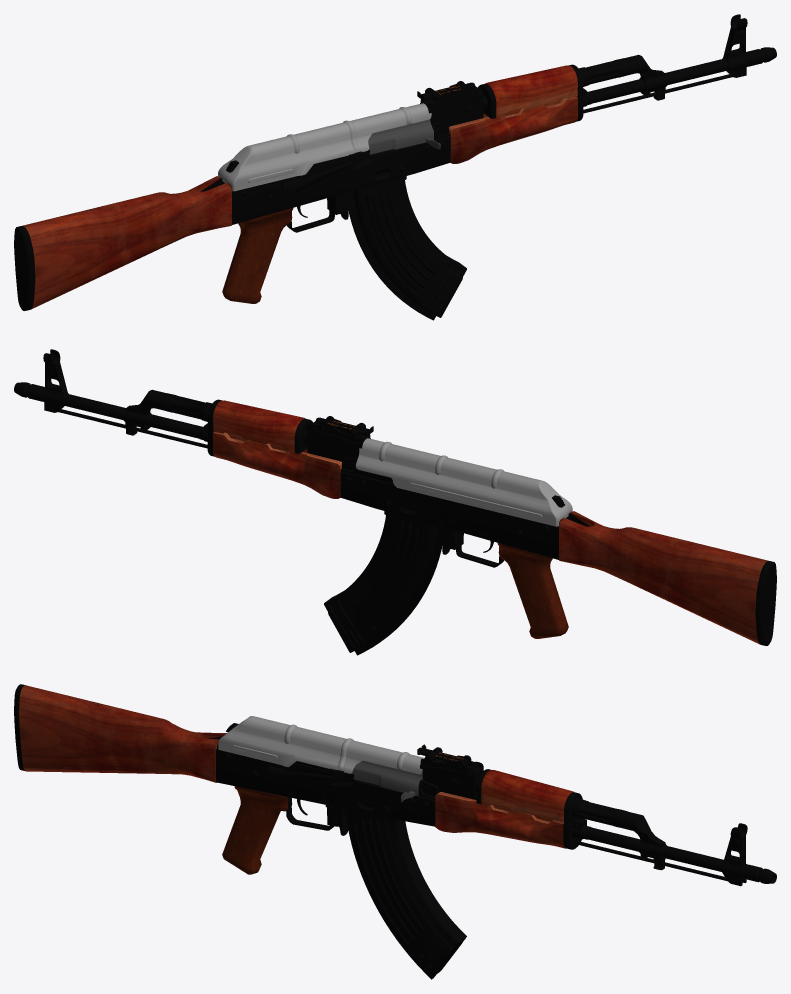
The picture shows the model from 3 angles, top to bottom: view 1: azimuth 30°, elevation 25°; view 2: azimuth 150°, elevation 25°; view 3: azimuth 330°, elevation 25°; orthographic projection.
Parts seen in each view (by area): view 1: AKM_03, AKM_61, AKM_21, AKM_25, AKM_05, AKM_04, AKM_12, AKM_08, AKM_16, AKM_28, AKM_20, AKM_58 (+4 smaller); view 2: AKM_03, AKM_61, AKM_21, AKM_25, AKM_05, AKM_04, AKM_12, AKM_08, AKM_16, AKM_58, AKM_60, AKM_10 (+2 smaller); view 3: AKM_03, AKM_61, AKM_21, AKM_25, AKM_05, AKM_04, AKM_12, AKM_08, AKM_16, AKM_20, AKM_28, AKM_60 (+5 smaller).
Boxes of the visible parts, x1=… form: AKM_03: x1=14, y1=176, x2=231, y2=310; AKM_61: x1=348, y1=176, x2=466, y2=320; AKM_21: x1=218, y1=103, x2=431, y2=191; AKM_25: x1=232, y1=136, x2=450, y2=224; AKM_05: x1=449, y1=96, x2=577, y2=163; AKM_04: x1=222, y1=208, x2=293, y2=303; AKM_12: x1=485, y1=65, x2=577, y2=116; AKM_08: x1=576, y1=58, x2=728, y2=121; AKM_16: x1=420, y1=81, x2=483, y2=126; AKM_28: x1=278, y1=150, x2=372, y2=198; AKM_20: x1=368, y1=119, x2=440, y2=154; AKM_58: x1=722, y1=14, x2=747, y2=77; AKM_03: x1=559, y1=511, x2=776, y2=645; AKM_61: x1=324, y1=511, x2=442, y2=655; AKM_21: x1=355, y1=438, x2=572, y2=526; AKM_25: x1=340, y1=471, x2=558, y2=559; AKM_05: x1=213, y1=431, x2=341, y2=498; AKM_04: x1=497, y1=543, x2=568, y2=638; AKM_12: x1=213, y1=400, x2=305, y2=451; AKM_08: x1=62, y1=393, x2=214, y2=456; AKM_16: x1=307, y1=416, x2=370, y2=461; AKM_58: x1=43, y1=349, x2=68, y2=412; AKM_60: x1=123, y1=389, x2=169, y2=435; AKM_10: x1=164, y1=394, x2=222, y2=431; AKM_03: x1=14, y1=684, x2=226, y2=782; AKM_61: x1=343, y1=808, x2=466, y2=979; AKM_21: x1=218, y1=716, x2=424, y2=774; AKM_25: x1=216, y1=748, x2=435, y2=826; AKM_05: x1=435, y1=792, x2=566, y2=848; AKM_04: x1=222, y1=786, x2=292, y2=874; AKM_12: x1=481, y1=770, x2=573, y2=822; AKM_08: x1=563, y1=818, x2=723, y2=871; AKM_16: x1=420, y1=755, x2=483, y2=799; AKM_20: x1=351, y1=761, x2=422, y2=802; AKM_28: x1=263, y1=761, x2=354, y2=786; AKM_60: x1=618, y1=810, x2=666, y2=870.
Bounding box in the file's own units: 35.02 × 10.14 × 2.34.
4 materials, 2 textured.
